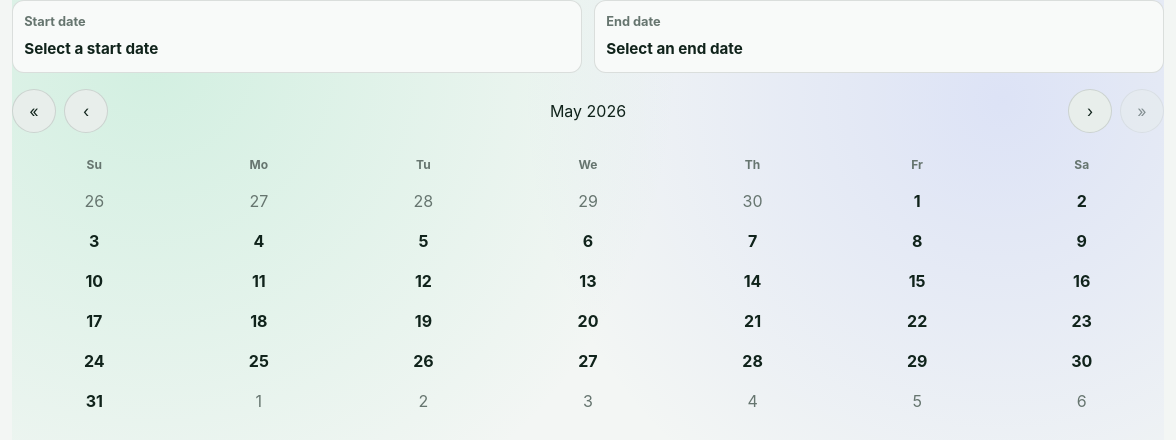
DateRangePicker six-week calendar › shows read-only localized summaries and updates Start immediately
This screenshot has width=1176, height=440.
Expected: the text "Select a start date" is shown, x1=24 y1=39 x2=158 y2=58
Expected: the text "Select an end date" is shown, x1=606 y1=39 x2=743 y2=58
What coordinates should you click on to do the following:
click the 1st button "1"
I would click on:
 (917, 201)
Its box is x1=899 y1=183 x2=935 y2=219.
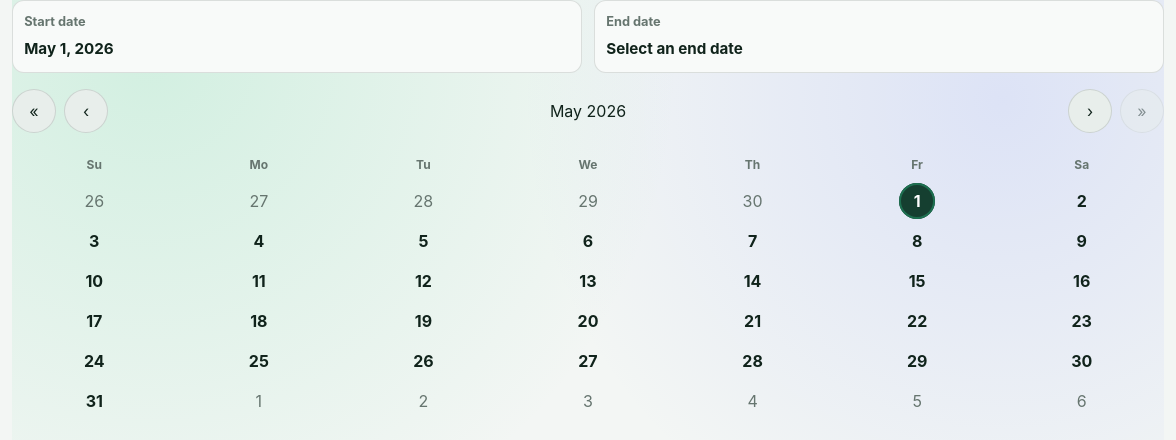
Expected: the text "Select an end date" is shown, x1=606 y1=39 x2=743 y2=58
Expected: the text "May 1, 2026" is shown, x1=24 y1=39 x2=114 y2=58
